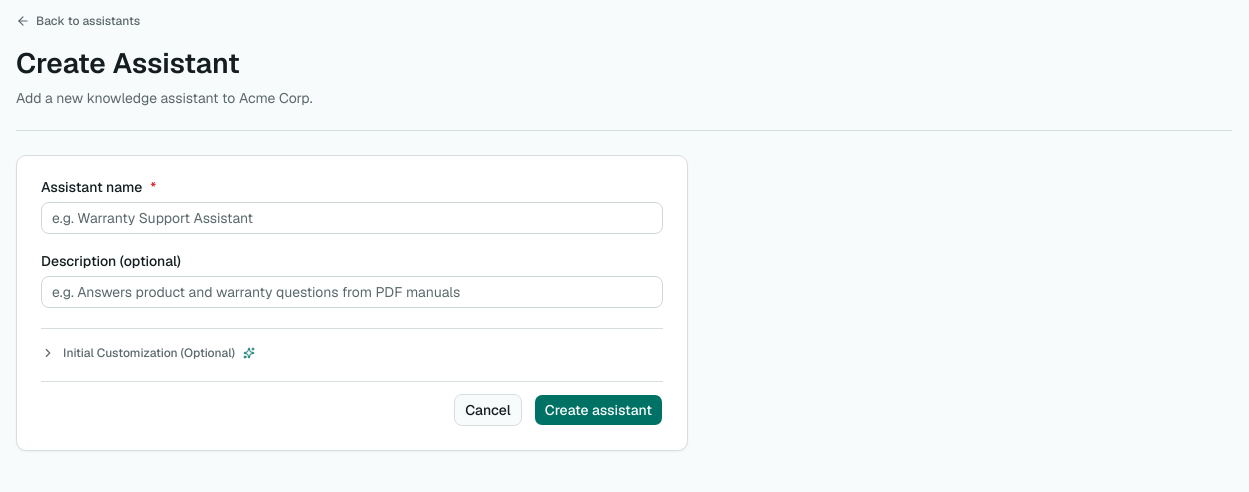
Test case: NewAssistantPage › validates required assistant name
Click the button "Create assistant". click: (598, 410)
box: [534,394,663,426]
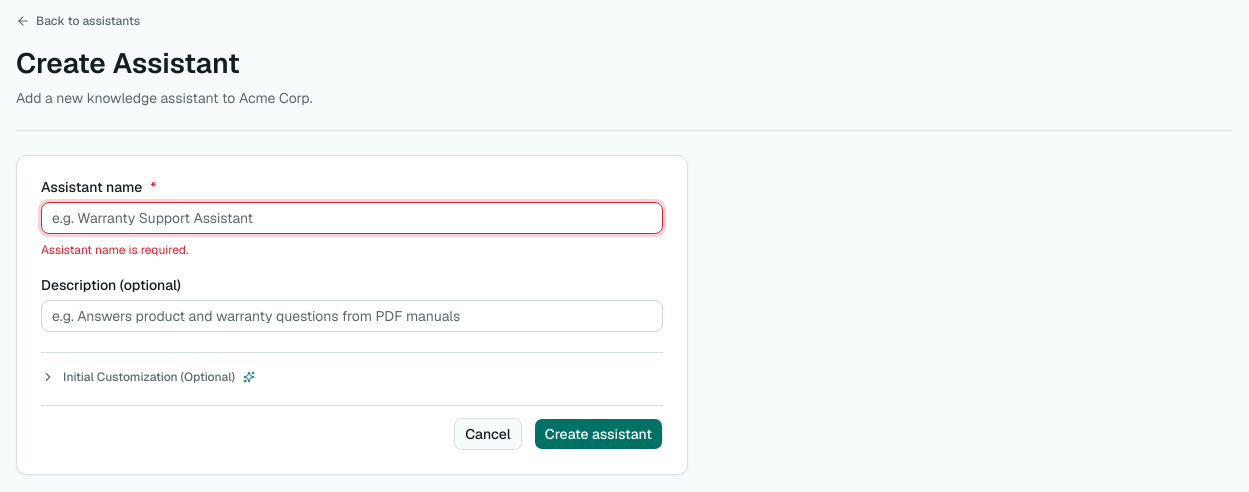
Expected: the text "Assistant name is required." is shown, [41,242,188,258]
